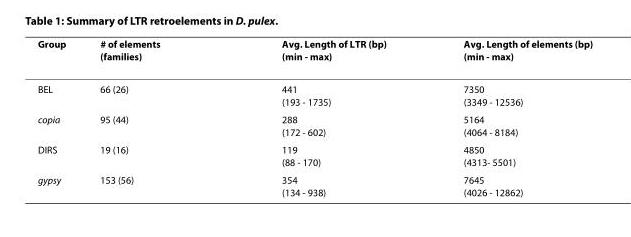table: (36, 36, 592, 197)
table column: (220, 36, 424, 197), (424, 36, 592, 197), (82, 36, 220, 197), (36, 36, 82, 197)
table column header: (36, 36, 592, 72)
table row: (36, 72, 592, 109), (36, 36, 592, 72), (36, 109, 592, 140), (36, 140, 592, 170), (36, 170, 592, 197)
